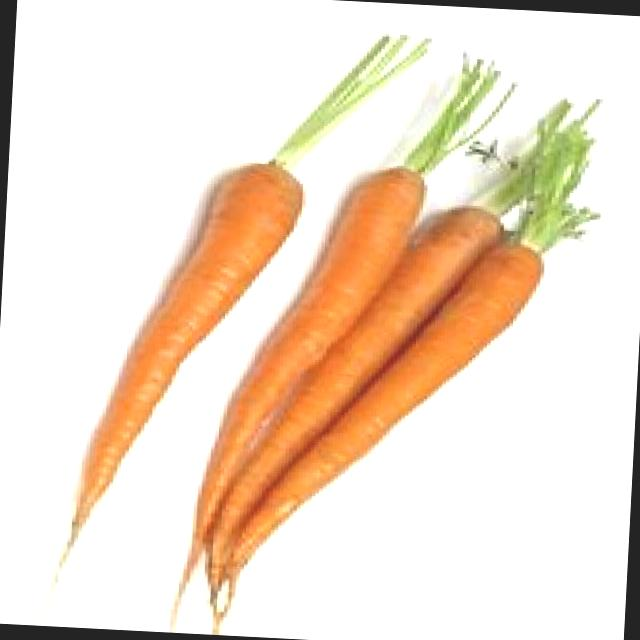carrot: (205, 209, 508, 587), (225, 243, 550, 576), (190, 165, 433, 538), (68, 162, 302, 548)
